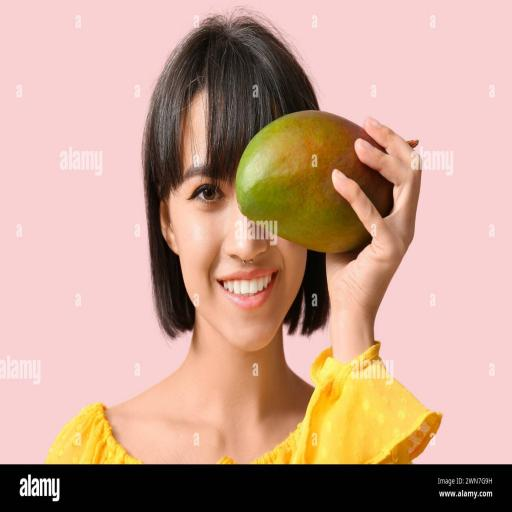mango: (236, 111, 393, 252)
